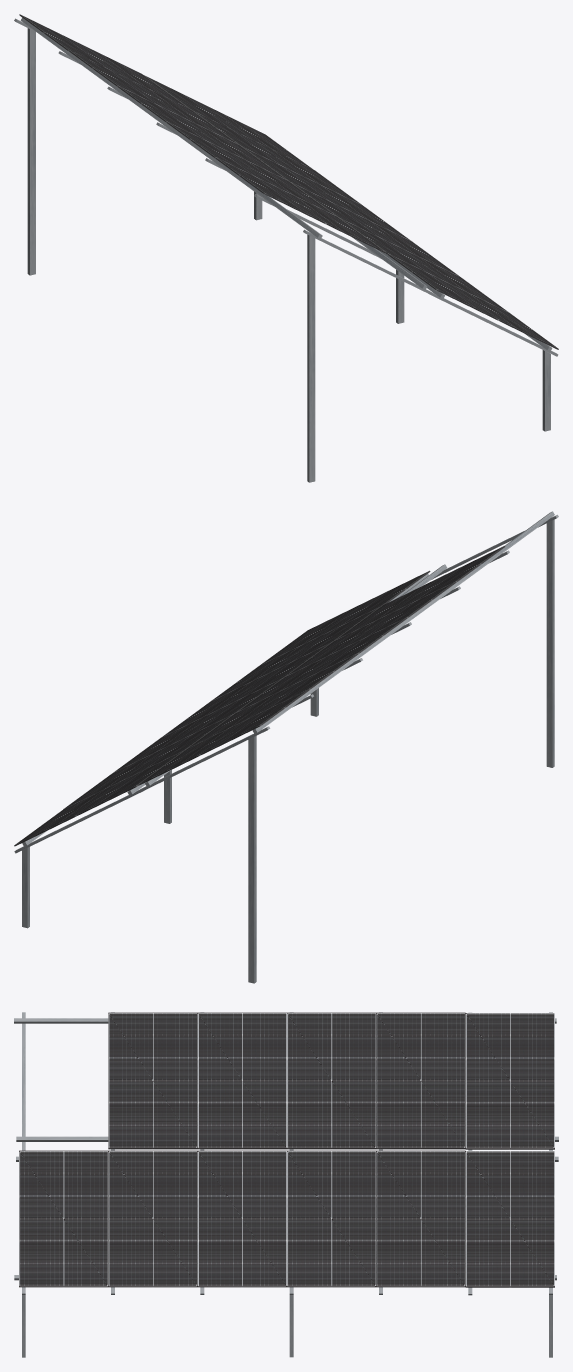
The model's file is solar_panel_ground_11.glb.
The picture shows the model from 3 angles, top to bottom: view 1: azimuth 30°, elevation 25°; view 2: azimuth 150°, elevation 25°; view 3: azimuth 270°, elevation 25°; orthographic projection. The views are drawn at different scales.
Parts seen in each view (by area): view 1: konstrukcja_metal.025, konstrukcja_metal.009, panel.010, panel.009, panel.006, panel.007, panel.008, konstrukcja_metal.014, panel.005, panel.004, panel.001, panel.003 (+3 smaller); view 2: konstrukcja_metal.025, konstrukcja_metal.009, panel.005, panel, panel.006, panel.008, panel.007, panel.009, panel.010, konstrukcja_metal.014, panel.001, panel.003 (+3 smaller); view 3: panel.001, panel.004, panel.006, panel.009, panel.002, panel.003, panel.007, panel.008, panel.010, panel, panel.005, konstrukcja_metal.014 (+2 smaller).
Part boxes in pixels (x1,y1,x2,y2): konstrukcja_metal.025: (307, 234, 315, 482); konstrukcja_metal.009: (27, 28, 35, 275); panel.010: (387, 253, 558, 349); panel.009: (215, 157, 386, 253); panel.006: (68, 50, 238, 144); panel.007: (117, 85, 287, 180); panel.008: (166, 121, 335, 215); konstrukcja_metal.014: (20, 17, 322, 239); panel.005: (19, 14, 188, 108); panel.004: (339, 218, 509, 312); panel.001: (193, 111, 362, 205); panel.003: (290, 182, 459, 276); konstrukcja_metal.025: (546, 519, 554, 767); konstrukcja_metal.009: (248, 736, 256, 983); panel.005: (138, 689, 309, 785); panel: (14, 750, 184, 846); panel.006: (187, 653, 358, 748); panel.008: (285, 581, 456, 676); panel.007: (236, 617, 407, 712); panel.009: (335, 545, 505, 640); panel.010: (260, 570, 430, 665); konstrukcja_metal.014: (252, 511, 554, 733); panel.001: (63, 714, 233, 809); panel.003: (162, 642, 331, 736); panel.001: (376, 1150, 465, 1287); panel.004: (108, 1150, 197, 1287); panel.006: (376, 1012, 465, 1149); panel.009: (108, 1012, 197, 1149); panel.002: (287, 1150, 376, 1287); panel.003: (197, 1150, 286, 1287); panel.007: (287, 1012, 376, 1149); panel.008: (197, 1012, 286, 1149); panel.010: (19, 1150, 108, 1287); panel: (465, 1151, 554, 1287); panel.005: (465, 1013, 554, 1149); konstrukcja_metal.014: (14, 1018, 556, 1023).
Bounding box in the file's own units: 6.8 × 6.68 × 13.84.
Materials: 2 (2 with a texture image).
